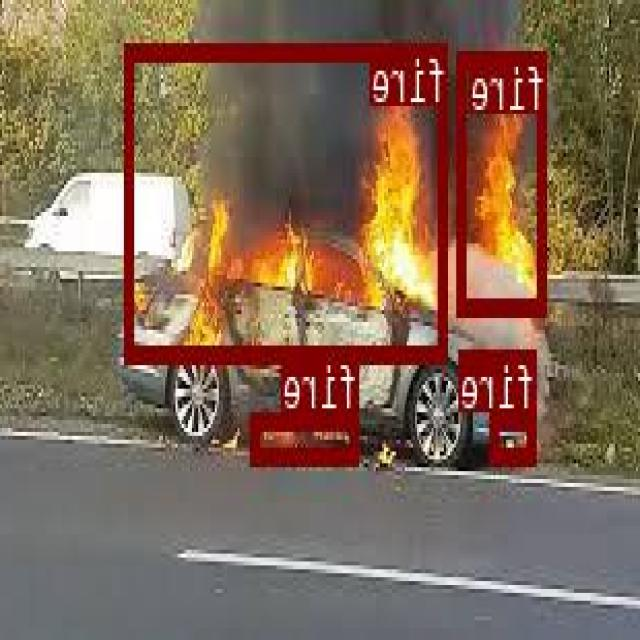fire: (127, 43, 448, 361), (458, 48, 548, 311), (253, 412, 360, 463), (492, 412, 538, 461)
